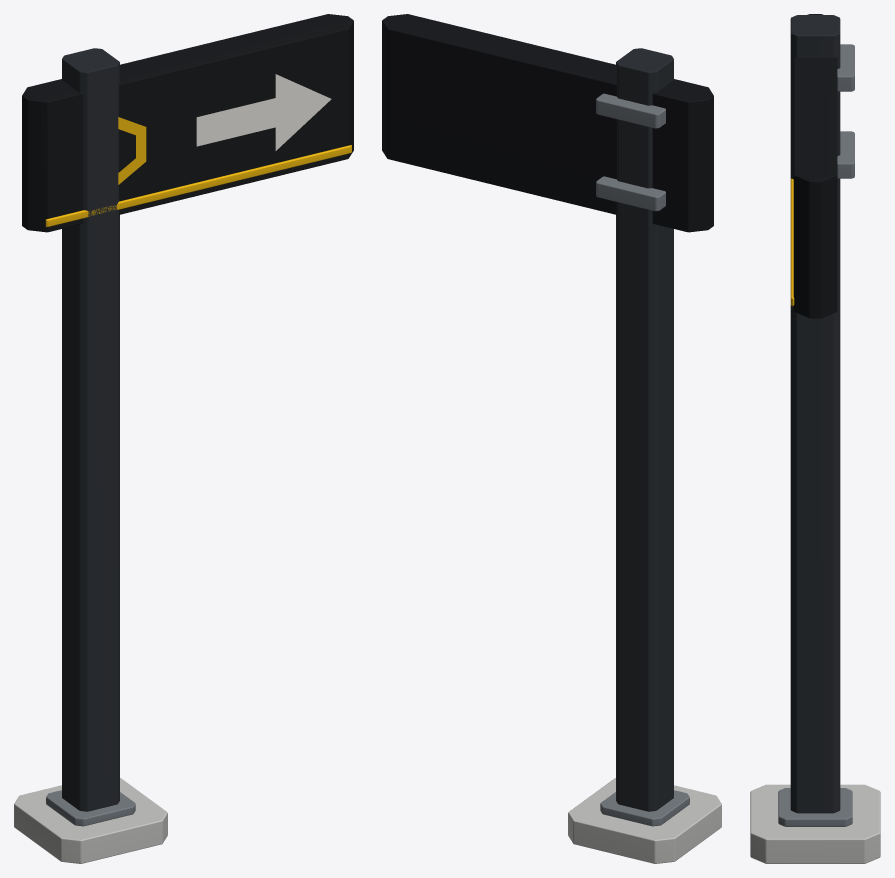
The model's file is PROP_WAYFINDER_01.glb.
3 renders of one model, left to right at view 1: azimuth 30°, elevation 25°; view 2: azimuth 150°, elevation 25°; view 3: azimuth 270°, elevation 25°, orthographic. The views are drawn at different scales.
Visible parts, largest first — view 1: CIVRUM_GAME_PROP_WAYFINDER_01; view 2: CIVRUM_GAME_PROP_WAYFINDER_01; view 3: CIVRUM_GAME_PROP_WAYFINDER_01.
Part boxes in pixels (left/top/right/bottom): CIVRUM_GAME_PROP_WAYFINDER_01: left=14, top=14, right=353, bottom=863; CIVRUM_GAME_PROP_WAYFINDER_01: left=382, top=14, right=721, bottom=863; CIVRUM_GAME_PROP_WAYFINDER_01: left=750, top=14, right=880, bottom=863.
Bounding box in the file's own units: 1.28 × 2.89 × 0.42.
